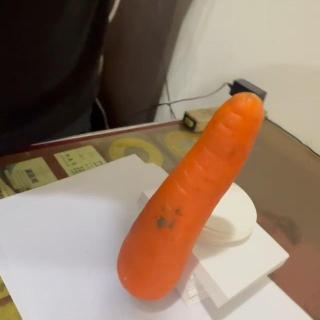carrot: (116, 91, 264, 303)
